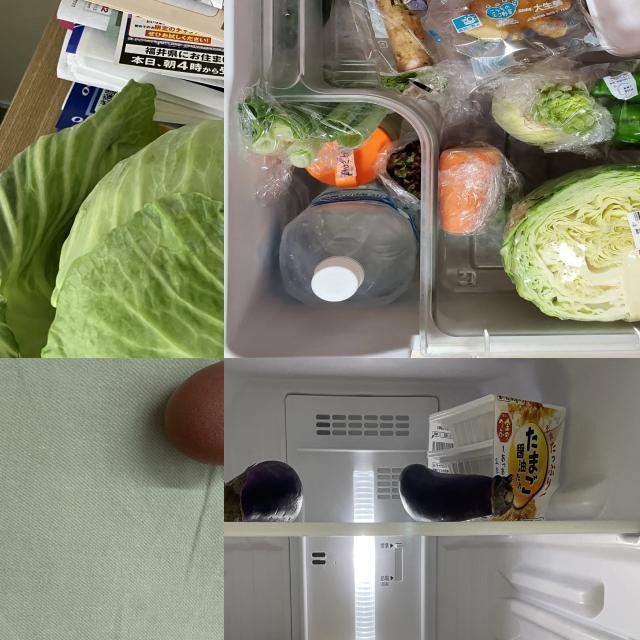cabbage: (36, 110, 225, 359), (500, 164, 640, 327)
carrot: (440, 142, 504, 236)
egg: (158, 359, 225, 468)
eggplant: (400, 462, 514, 524), (225, 456, 302, 525)
